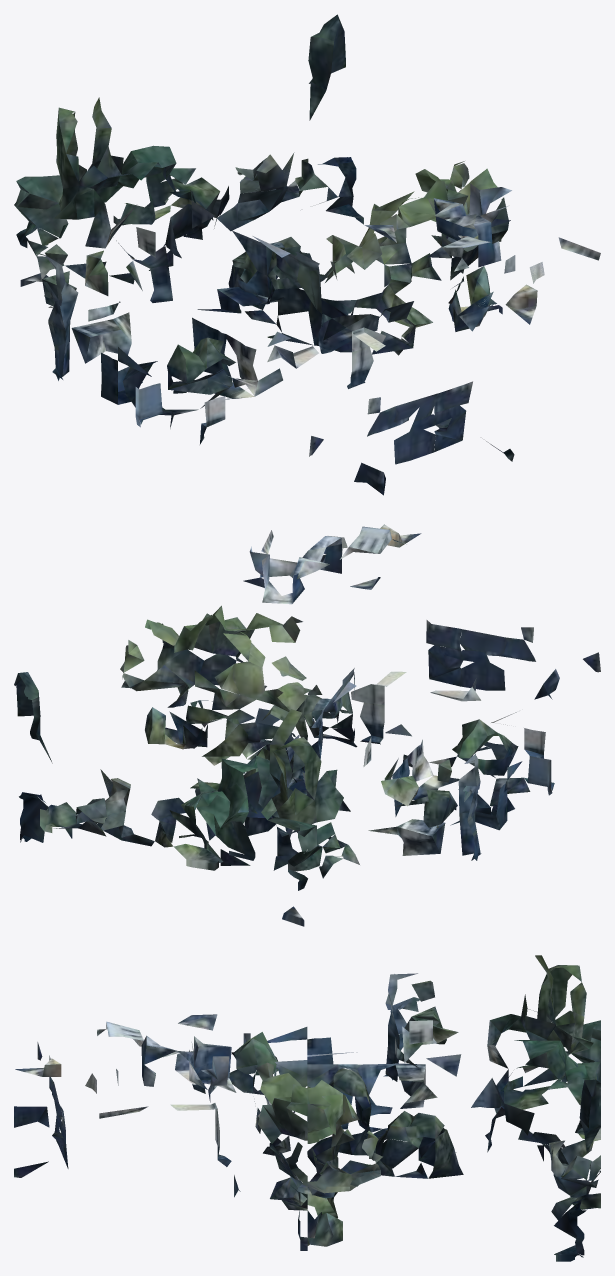
3 renders of one model, top to bottom at view 1: azimuth 30°, elevation 25°; view 2: azimuth 150°, elevation 25°; view 3: azimuth 270°, elevation 25°, orthographic. The views are drawn at different scales.
Parts seen in each view (by area): view 1: 3043627270437061452_1; view 2: 3043627270437061452_1; view 3: 3043627270437061452_1.
Part boxes in pixels (x1,y1,x2,y2): 3043627270437061452_1: (14,14,600,495); 3043627270437061452_1: (14,524,600,926); 3043627270437061452_1: (14,955,600,1261).
Bounding box in the file's own units: 54.62 × 26.81 × 76.52.
1 material, 1 textured.
